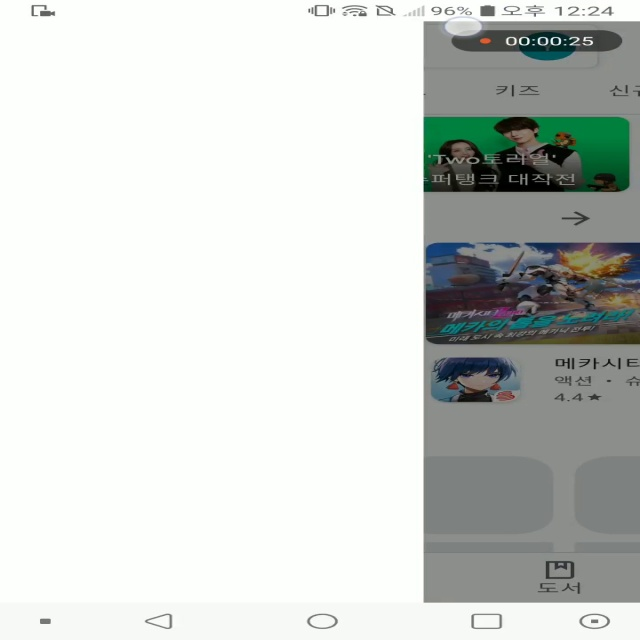Cursor: (441, 16, 486, 39)
